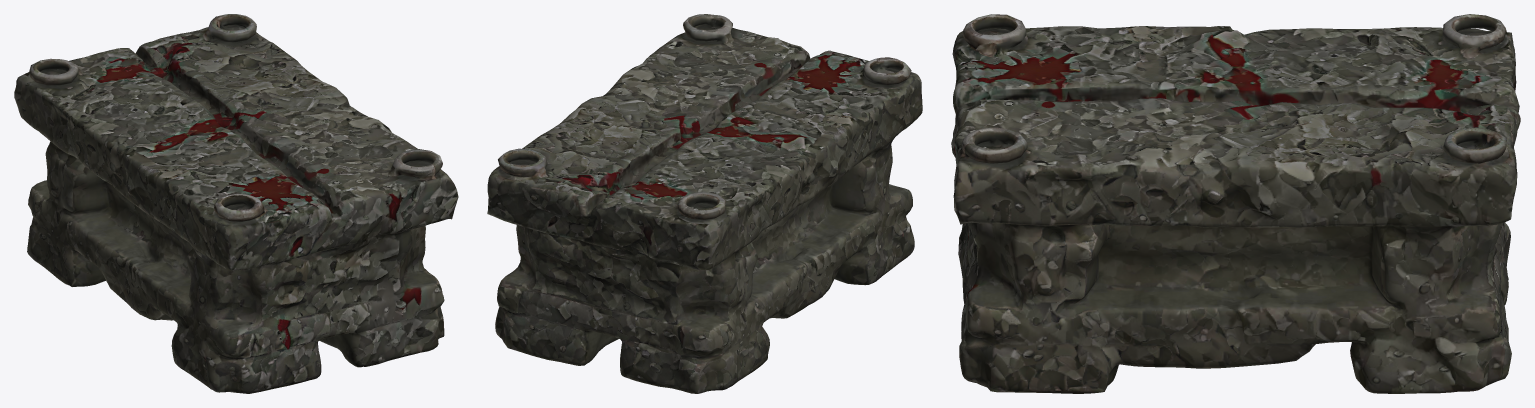
Rendered from stone altar 3d model.glb.
3 renders of one model, left to right at view 1: azimuth 30°, elevation 25°; view 2: azimuth 150°, elevation 25°; view 3: azimuth 270°, elevation 25°, orthographic. The views are drawn at different scales.
Visible parts, largest first — view 1: tripo_node_00363b9f; view 2: tripo_node_00363b9f; view 3: tripo_node_00363b9f.
Boxes of the visible parts, bbox=[...] form: tripo_node_00363b9f: bbox=[14, 14, 458, 393]; tripo_node_00363b9f: bbox=[487, 14, 922, 393]; tripo_node_00363b9f: bbox=[951, 14, 1520, 393].
Size of the model in its own units: 61.4 by 45.73 by 97.58.
1 material, 1 textured.
